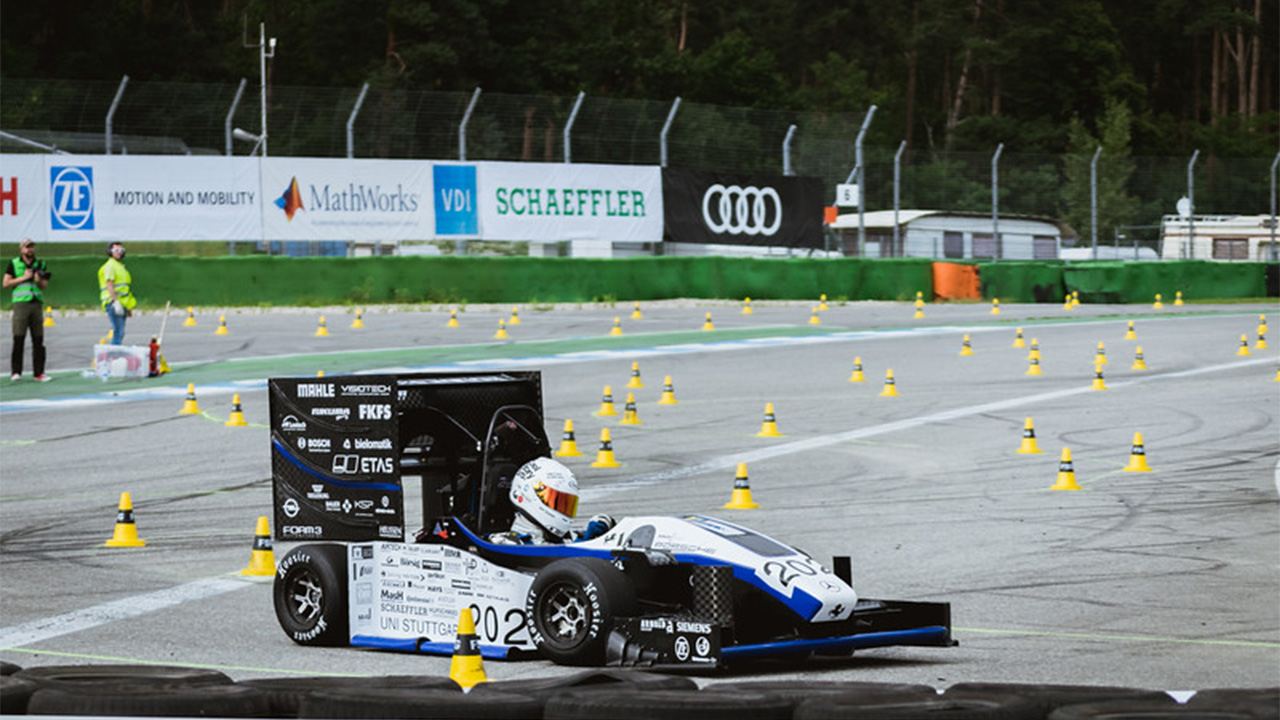cone: (436, 606, 494, 687), (243, 516, 285, 574), (102, 494, 141, 545), (719, 462, 755, 513), (589, 424, 623, 472), (551, 417, 585, 459), (1047, 449, 1081, 490), (1123, 434, 1153, 476), (175, 379, 206, 417), (1014, 416, 1044, 455), (753, 401, 781, 440), (220, 393, 250, 427), (617, 393, 644, 427), (176, 303, 200, 328), (593, 386, 614, 414), (344, 304, 368, 328), (1024, 340, 1044, 368), (657, 375, 675, 406), (312, 311, 330, 341), (878, 368, 896, 396), (622, 361, 643, 385), (37, 303, 55, 330), (847, 356, 864, 382), (1089, 365, 1107, 389), (1091, 338, 1107, 365), (1129, 345, 1145, 372), (491, 316, 509, 340), (1023, 351, 1040, 376), (605, 316, 624, 337), (805, 303, 823, 324), (1010, 325, 1026, 348), (1123, 320, 1138, 344), (698, 310, 716, 330), (213, 314, 230, 335), (738, 297, 755, 316), (957, 332, 971, 354), (629, 300, 643, 318), (912, 300, 926, 318), (1151, 293, 1165, 309), (1171, 292, 1185, 307), (505, 309, 517, 325), (1062, 293, 1072, 310)
